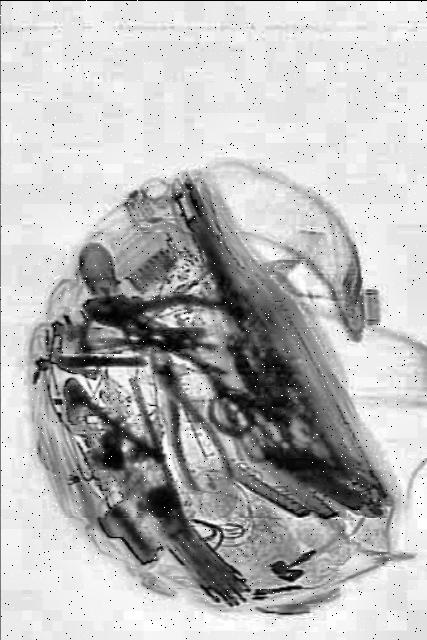Pliers: (134, 332, 239, 504), (79, 266, 239, 378)
